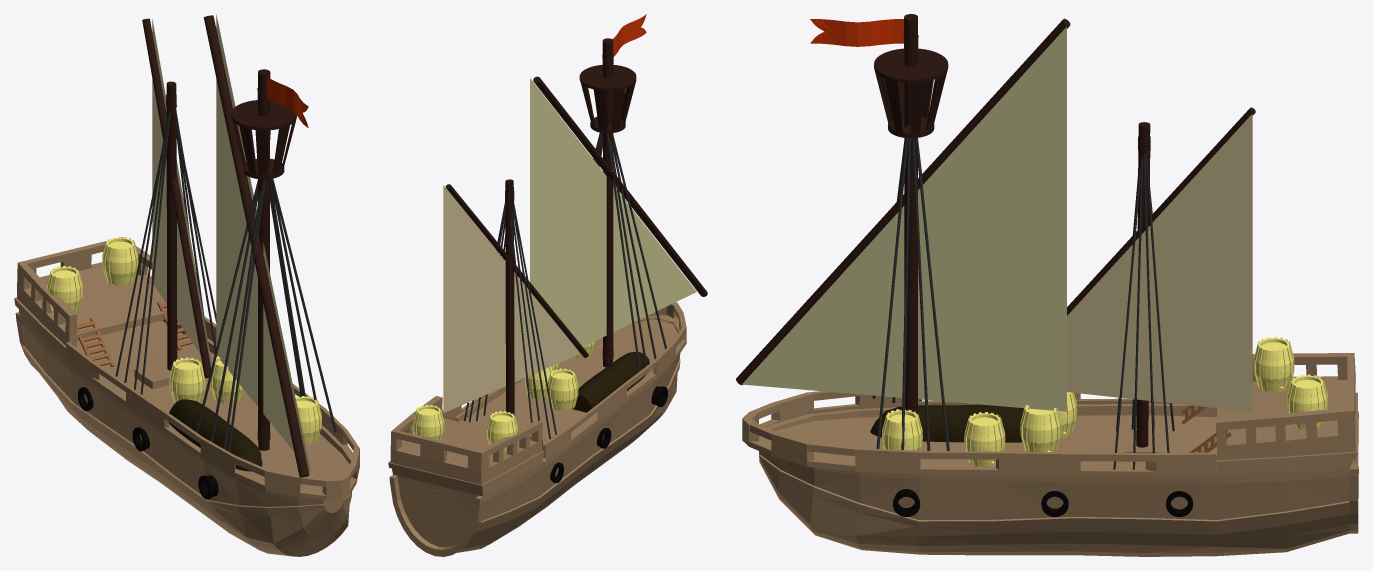
Rendered from Caravel.dae.
The picture shows the model from 3 angles, left to right: view 1: azimuth 30°, elevation 25°; view 2: azimuth 150°, elevation 25°; view 3: azimuth 270°, elevation 25°; orthographic projection. The views are drawn at different scales.
Visible parts, largest first — view 1: Sphere, Plane_002, Circle_007, Cylinder_009, Plane_001, Circle_008, Cylinder_008, Sphere_001, Cylinder_021, Cylinder_022, Cylinder_023, Cylinder_020 (+18 smaller); view 2: Sphere, Plane_002, Plane_001, Circle_007, Cylinder_009, Circle_008, Sphere_001, Cylinder_008, Cylinder_022, Cylinder_021, Cylinder_023, Cylinder_011 (+9 smaller); view 3: Sphere, Plane_002, Plane_001, Circle_007, Cylinder_009, Sphere_001, Plane, Cylinder_023, Cylinder_018, Cylinder_019, Cylinder_008, Circle_008 (+10 smaller).
Boxes of the visible parts, left/top/right/bottom form: Sphere: left=14, top=237, right=359, bottom=556; Plane_002: left=216, top=14, right=310, bottom=472; Circle_007: left=231, top=69, right=296, bottom=450; Cylinder_009: left=203, top=15, right=309, bottom=477; Plane_001: left=152, top=19, right=213, bottom=374; Circle_008: left=166, top=81, right=177, bottom=370; Cylinder_008: left=142, top=18, right=212, bottom=378; Sphere_001: left=169, top=399, right=262, bottom=471; Cylinder_021: left=102, top=236, right=138, bottom=285; Cylinder_022: left=169, top=357, right=205, bottom=403; Cylinder_023: left=47, top=266, right=82, bottom=312; Cylinder_020: left=295, top=396, right=321, bottom=444; Sphere: left=388, top=302, right=686, bottom=556; Plane_002: left=530, top=78, right=696, bottom=348; Plane_001: left=443, top=185, right=580, bottom=412; Circle_007: left=579, top=38, right=636, bottom=367; Cylinder_009: left=533, top=76, right=707, bottom=296; Circle_008: left=505, top=179, right=514, bottom=415; Sphere_001: left=571, top=352, right=649, bottom=412; Cylinder_008: left=445, top=184, right=588, bottom=357; Cylinder_022: left=547, top=368, right=578, bottom=410; Cylinder_021: left=413, top=404, right=444, bottom=444; Cylinder_023: left=487, top=411, right=517, bottom=453; Cylinder_011: left=606, top=133, right=640, bottom=371; Sphere: left=742, top=353, right=1358, bottom=556; Plane_002: left=742, top=26, right=1066, bottom=411; Plane_001: left=1067, top=113, right=1252, bottom=411; Circle_007: left=874, top=14, right=948, bottom=413; Cylinder_009: left=736, top=18, right=1070, bottom=385; Sphere_001: left=870, top=404, right=1024, bottom=442; Plane: left=810, top=19, right=903, bottom=46; Cylinder_023: left=1253, top=337, right=1294, bottom=392; Cylinder_018: left=1020, top=405, right=1061, bottom=452; Cylinder_019: left=964, top=412, right=1005, bottom=467; Cylinder_008: left=1067, top=107, right=1255, bottom=315; Circle_008: left=1136, top=122, right=1150, bottom=447.
Bounding box in the file's own units: 0.8951 × 3.21 × 3.06.
